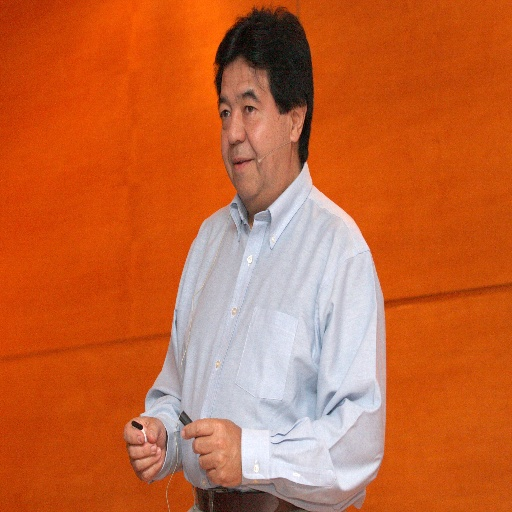hand: (184, 420, 243, 485), (121, 414, 168, 485)
